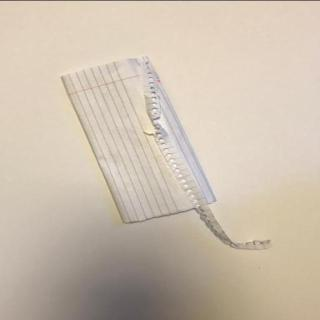Anorganik: (62, 55, 214, 224)
